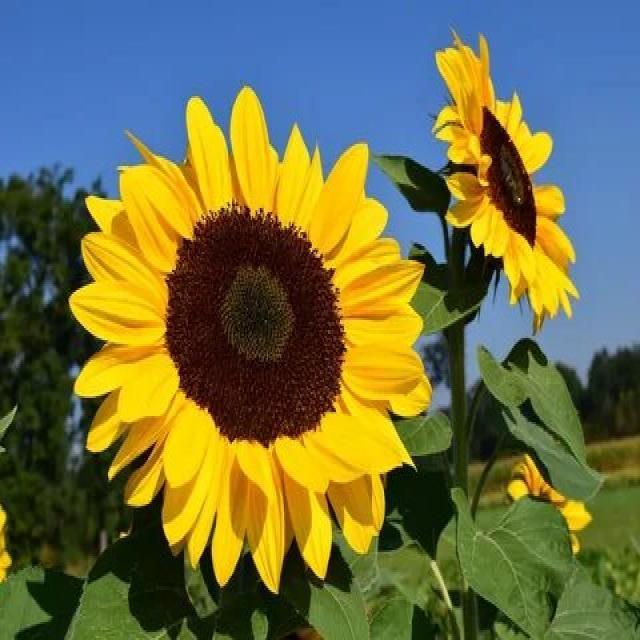sunflower: (60, 78, 444, 592), (426, 24, 586, 334)
